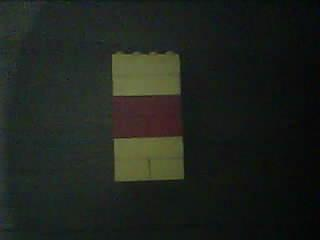lego: (110, 51, 184, 182)
